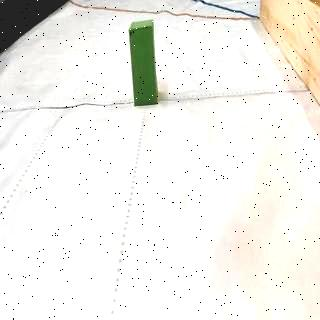greenbox: (130, 23, 158, 108)
